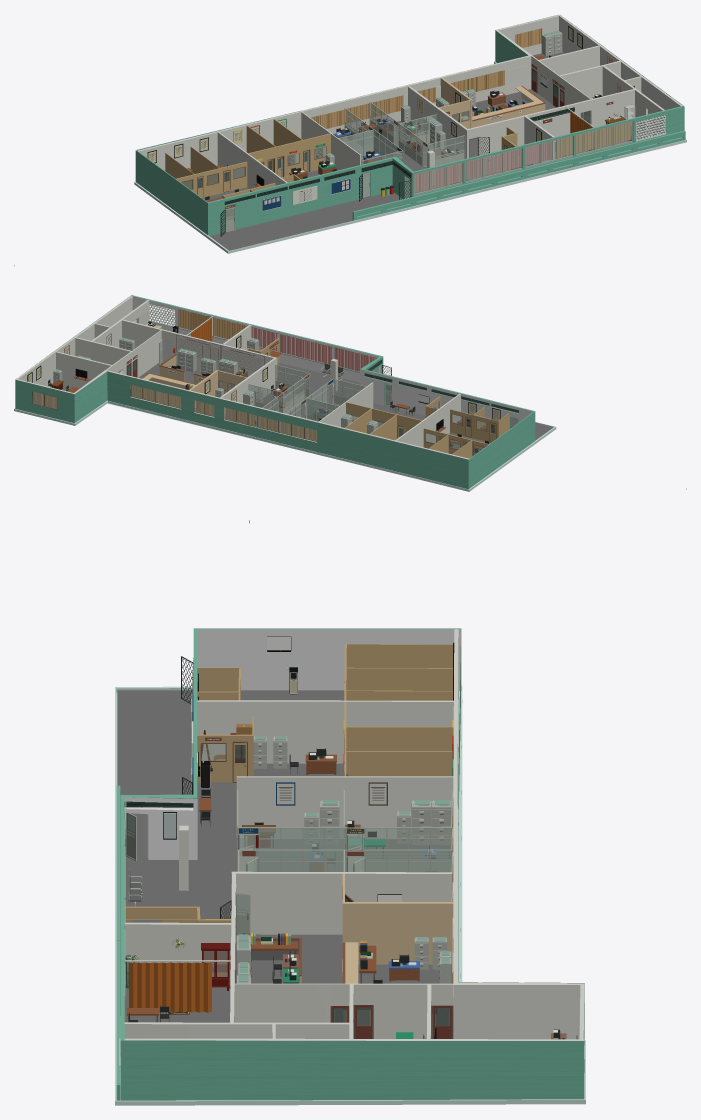
File: gedung_biro_indoor.glb
The picture shows the model from 3 angles, top to bottom: view 1: azimuth 30°, elevation 25°; view 2: azimuth 150°, elevation 25°; view 3: azimuth 270°, elevation 25°; orthographic projection. The views are drawn at different scales.
Parts seen in each view (by area): view 1: A1_Tiiang.005_Dinding_Bawah, L1_Modul_01_Dinding.001, A1_Ubin, A2_Tiang 2.003_Dinding_Bawah.001, A2_Ubin, Cube.001, L1_Modul_02_Dinding, A4_Tiang 2.008_Dinding_Bawah, A1_Tiiang.003_Dinding_Bawah, A2_Tiang 2.003_Dinding_Bawah, L1_Modul_04_Dinding, A4_Tiang 4.005_Dinding_Bawah (+49 smaller); view 2: L1_Modul_01_Dinding.001, Plane.005, Plane, Plane.007, A2_Ubin, Cube.001, Plane.003, A4_Tiang 2.008_Dinding_Bawah, A1_Tiiang.003_Dinding_Bawah, A4_Tiang 4.006_Dinding_Bawah, A2_Tiang 3.003_Tirai_pink, A2_Tiang 2.003_Dinding_Bawah (+23 smaller); view 3: L1_Modul_09_Dinding, A2_Ubin, A1_Ubin, A1_Tiiang.003_Dinding_Bawah, A1_Tiang 2.009_Dinding_Bawah, A2_Tiang 2.003_Dinding_Bawah, Plane.004, A3_Tiang 3.017_Dinding_Bawah, Cube.001, A3_Tiang 2.005_Dinding_Bawah, A4_Tiang 3.006_Dinding_Bawah, A4P_32_Gorden_Oranye (+25 smaller).
Part boxes in pixels (x1,y1,x2,y2): A1_Tiiang.005_Dinding_Bawah: (137, 55, 529, 170); L1_Modul_01_Dinding.001: (135, 111, 299, 235); A1_Ubin: (198, 150, 407, 250); A2_Tiang 2.003_Dinding_Bawah.001: (468, 102, 580, 159); A2_Ubin: (342, 89, 608, 197); Cube.001: (134, 61, 686, 253); L1_Modul_02_Dinding: (287, 165, 360, 216); A4_Tiang 2.008_Dinding_Bawah: (558, 14, 682, 114); A1_Tiiang.003_Dinding_Bawah: (217, 132, 287, 188); A2_Tiang 2.003_Dinding_Bawah: (408, 86, 468, 158); L1_Modul_04_Dinding: (360, 156, 413, 198); A4_Tiang 4.005_Dinding_Bawah: (580, 89, 634, 132); L1_Modul_01_Dinding.001: (317, 400, 535, 489); Plane.005: (107, 371, 317, 452); Plane: (360, 369, 533, 427); Plane.007: (15, 371, 107, 423); A2_Ubin: (138, 353, 381, 429); Cube.001: (14, 400, 556, 491); Plane.003: (132, 296, 381, 382); A4_Tiang 2.008_Dinding_Bawah: (15, 296, 132, 386); A1_Tiiang.003_Dinding_Bawah: (395, 393, 460, 447); A4_Tiang 4.006_Dinding_Bawah: (56, 351, 111, 388); A2_Tiang 3.003_Tirai_pink: (280, 333, 332, 364); A2_Tiang 2.003_Dinding_Bawah: (220, 357, 277, 412); L1_Modul_09_Dinding: (120, 995, 584, 1100); A2_Ubin: (120, 838, 453, 1038); A1_Ubin: (117, 690, 344, 857); A1_Tiiang.003_Dinding_Bawah: (197, 700, 453, 763); A1_Tiang 2.009_Dinding_Bawah: (236, 776, 453, 838); A2_Tiang 2.003_Dinding_Bawah: (231, 871, 452, 934); Plane.004: (195, 629, 460, 690); A3_Tiang 3.017_Dinding_Bawah: (453, 982, 584, 1039); Cube.001: (115, 685, 585, 1105); A3_Tiang 2.005_Dinding_Bawah: (342, 902, 453, 964); A4_Tiang 3.006_Dinding_Bawah: (234, 983, 349, 1022); A4P_32_Gorden_Oranye: (124, 961, 211, 1012).
Size of the model in its own units: 67.46 by 3.56 by 23.38.
Materials: 842 (2 with a texture image).
